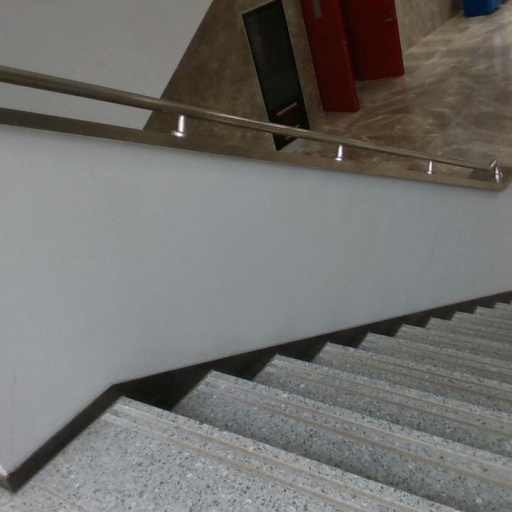Stairs: (43, 296, 512, 512)
